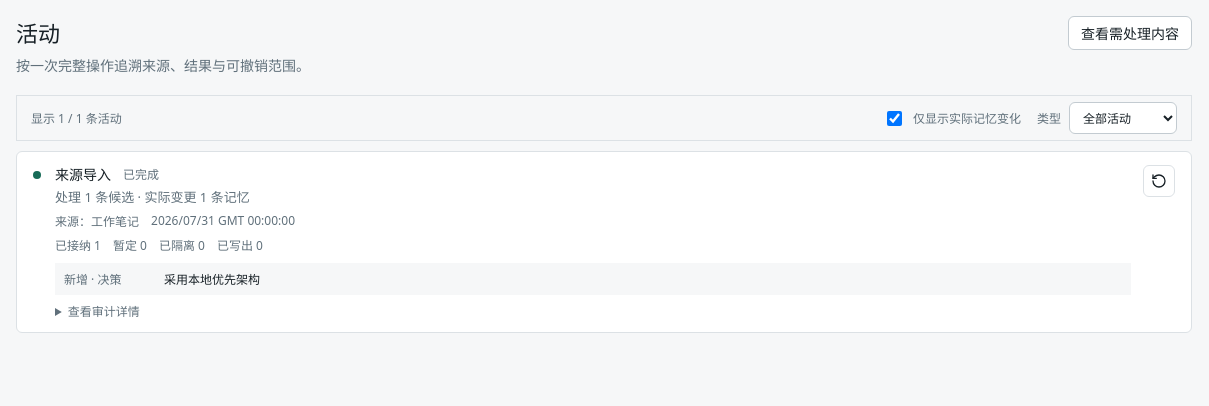
Scenario: ActivityView › reports an undo failure when the API rejects the undo
Click the button named "撤销本次导入": (1159, 181) [1143,165,1175,197]
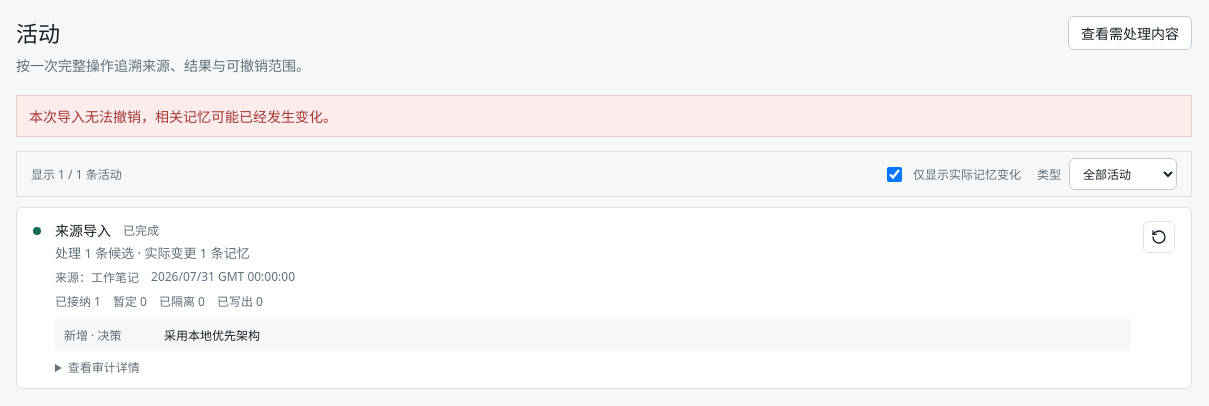
Now the text "本次导入无法撤销" is shown, box [29,107,337,126]
